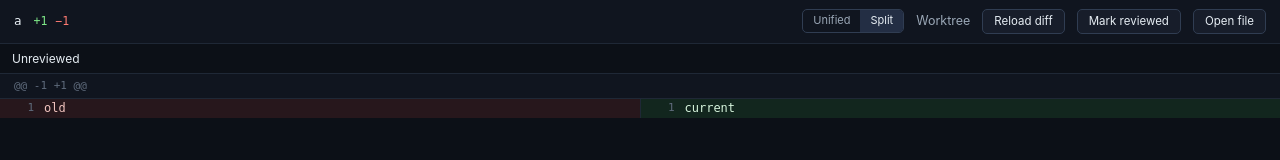
Test: rechecks exact content on confirmation even when no watcher event arrived
Click the button "Mark reviewed": point(1129, 21) top-left (1077, 9), bottom-right (1181, 34)
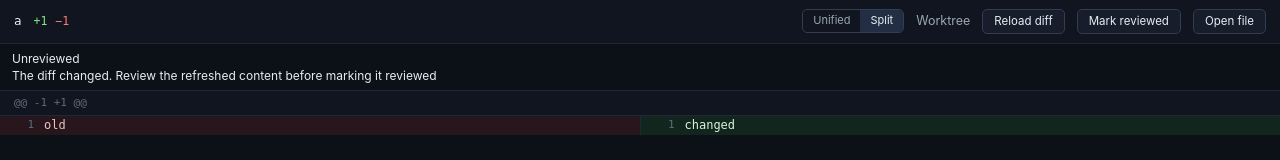
Result: the text "changed" is shown at top-left (12, 68), bottom-right (437, 83)
